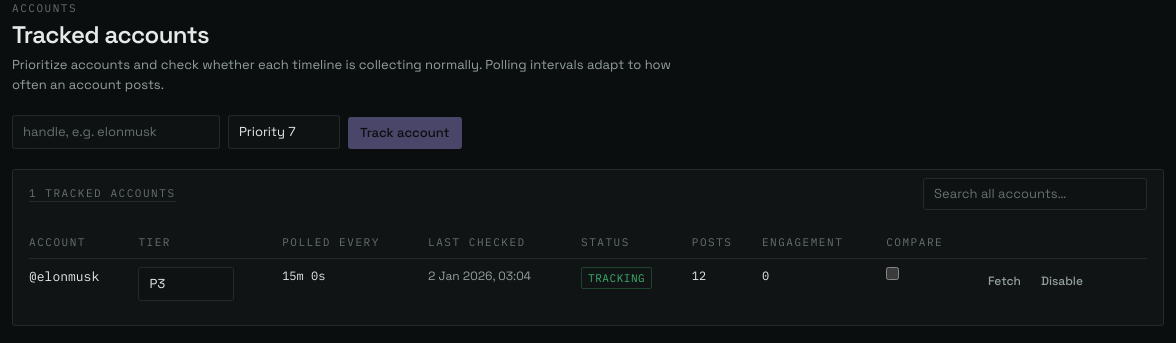
it: account timeline › explains an empty timeline rather than rendering nothing
Click the button "@elonmusk". click: (64, 277)
box: [29,267,99,287]
(page scrolled)
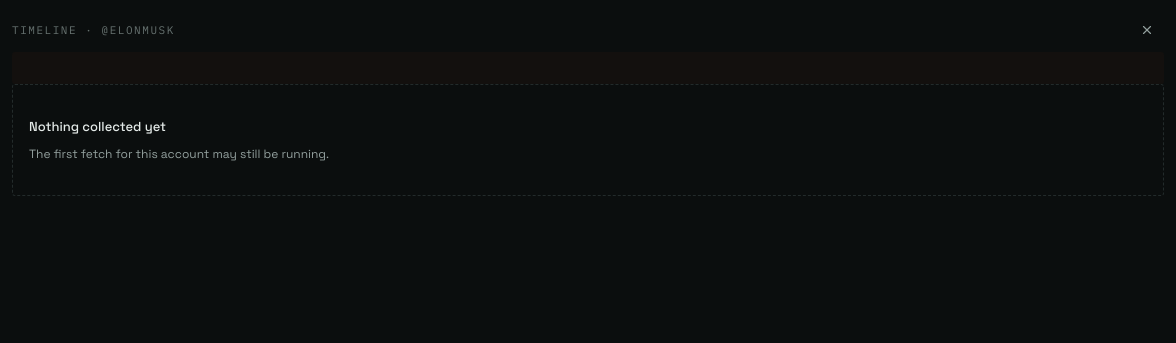
Check: the text "Nothing collected yet" is shown, box [29,117,166,137]
